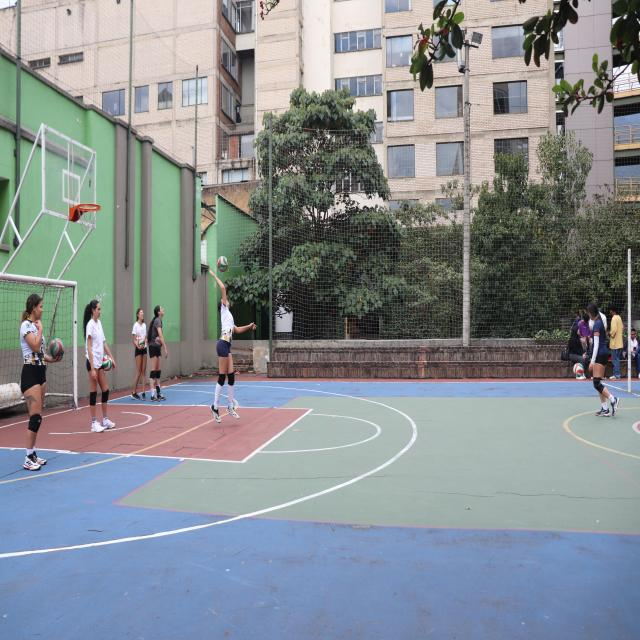volleyball: (50, 338, 64, 359), (217, 256, 228, 272), (103, 355, 112, 371), (573, 363, 583, 377), (155, 336, 163, 348), (138, 337, 146, 347)
